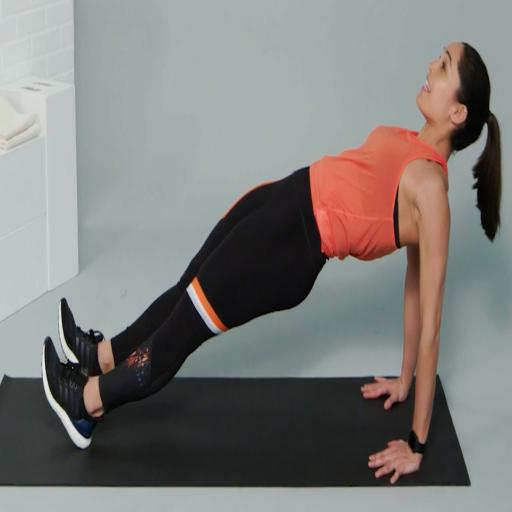Normal_Dips: (8, 12, 512, 494)
